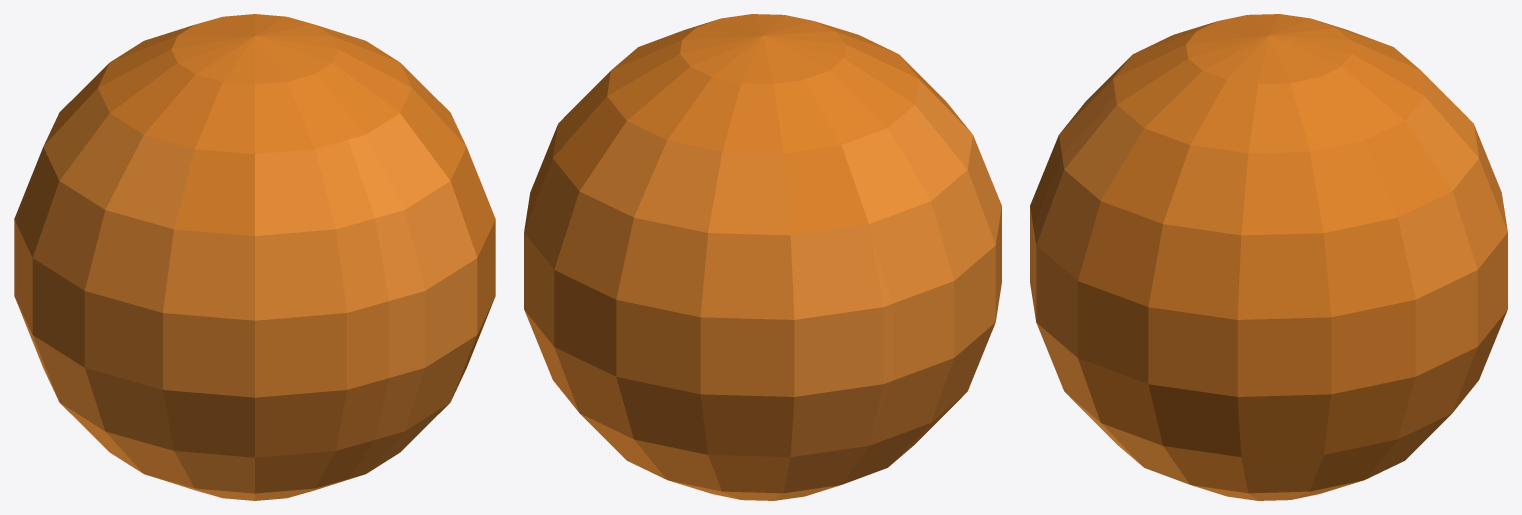
Rendered from sapscrap_signal.obj.
3 renders of one model, left to right at view 1: azimuth 30°, elevation 25°; view 2: azimuth 150°, elevation 25°; view 3: azimuth 270°, elevation 25°, orthographic.
Bounding box in the file's own units: 0.1172 × 0.12 × 0.1172.
Materials: 1 (1 with a texture image).
